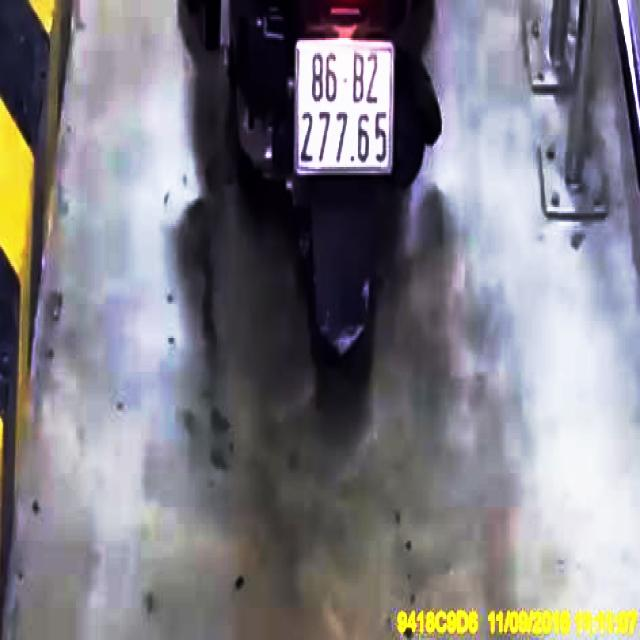license_plate: (297, 43, 394, 173)
